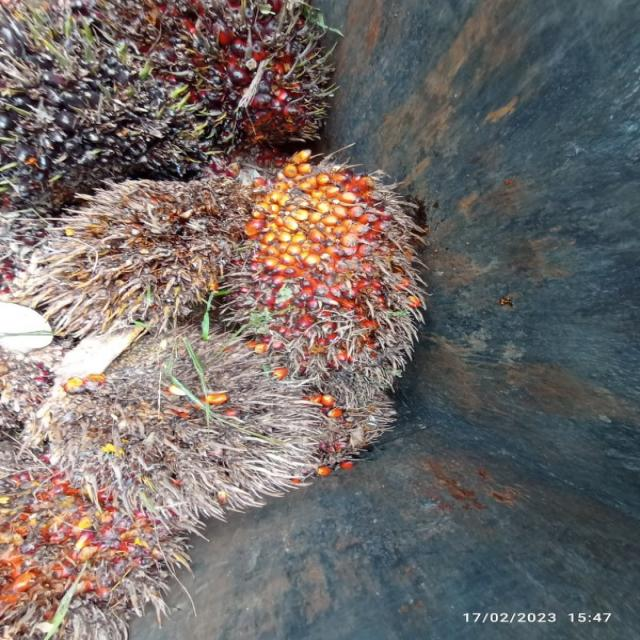fraksi 00: (0, 0, 227, 210)
fraksi 3: (189, 137, 478, 392)
